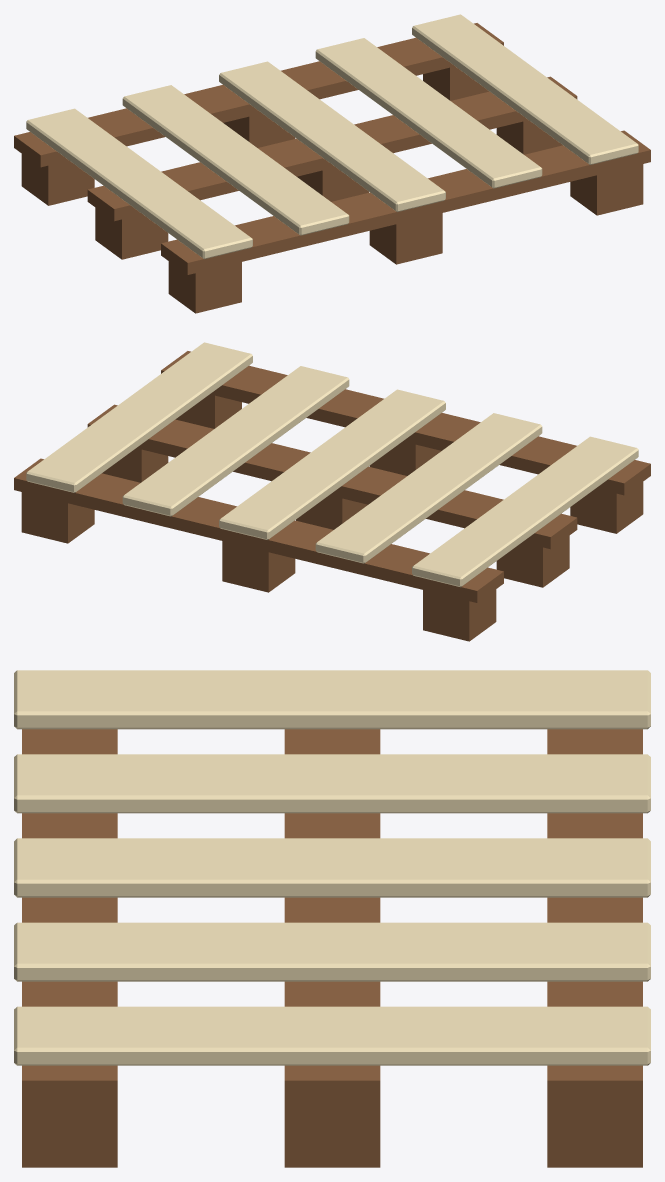
File: sm_env_prop_pallet.glb
The picture shows the model from 3 angles, top to bottom: view 1: azimuth 30°, elevation 25°; view 2: azimuth 150°, elevation 25°; view 3: azimuth 270°, elevation 25°; orthographic projection. The views are drawn at different scales.
Visible parts, largest first — view 1: PalletStringer, PalletSlat.001, PalletSlat.003, PalletSlat, PalletSlat.002, PalletSlat.004, PalletStringer.001, PalletStringer.002, PalletBlock, PalletBlock.006, PalletBlock.003, PalletBlock.002 (+5 smaller); view 2: PalletStringer.002, PalletSlat.001, PalletSlat.003, PalletSlat, PalletSlat.002, PalletSlat.004, PalletStringer.001, PalletStringer, PalletBlock.002, PalletBlock.008, PalletBlock.005, PalletBlock (+5 smaller); view 3: PalletSlat, PalletSlat.004, PalletSlat.001, PalletSlat.003, PalletSlat.002, PalletStringer.001, PalletStringer, PalletStringer.002, PalletBlock.007, PalletBlock.006, PalletBlock.008.
Part boxes in pixels (x1,y1,x2,y2): PalletStringer: (161,130,650,274); PalletSlat.001: (122,85,349,235); PalletSlat.003: (315,38,542,188); PalletSlat: (26,108,252,259); PalletSlat.002: (219,61,445,211); PalletSlat.004: (412,14,638,164); PalletStringer.001: (87,76,577,221); PalletStringer.002: (14,23,503,167); PalletBlock: (168,261,241,313); PalletBlock.006: (570,164,643,215); PalletBlock.003: (369,213,442,264); PalletBlock.002: (21,154,94,205); PalletStringer.002: (14,458,503,602); PalletSlat.001: (315,413,542,563); PalletSlat.003: (122,366,349,516); PalletSlat: (412,436,638,587); PalletSlat.002: (219,389,445,539); PalletSlat.004: (26,342,252,492); PalletStringer.001: (87,404,577,549); PalletStringer: (161,351,650,495); PalletBlock.002: (423,589,496,641); PalletBlock.008: (21,492,94,543); PalletBlock.005: (222,541,295,592); PalletBlock: (570,482,643,533); PalletSlat: (14,670,650,729); PalletSlat.004: (14,1006,650,1065); PalletSlat.001: (14,754,650,813); PalletSlat.003: (14,922,650,981); PalletSlat.002: (14,838,650,897); PalletStringer.001: (284,729,380,1102); PalletStringer: (22,729,117,1102); PalletStringer.002: (547,729,642,1102); PalletBlock.007: (284,1102,380,1167); PalletBlock.006: (22,1102,117,1167); PalletBlock.008: (547,1102,642,1167).
Size of the model in its own units: 1.2 by 0.1575 by 0.8.
